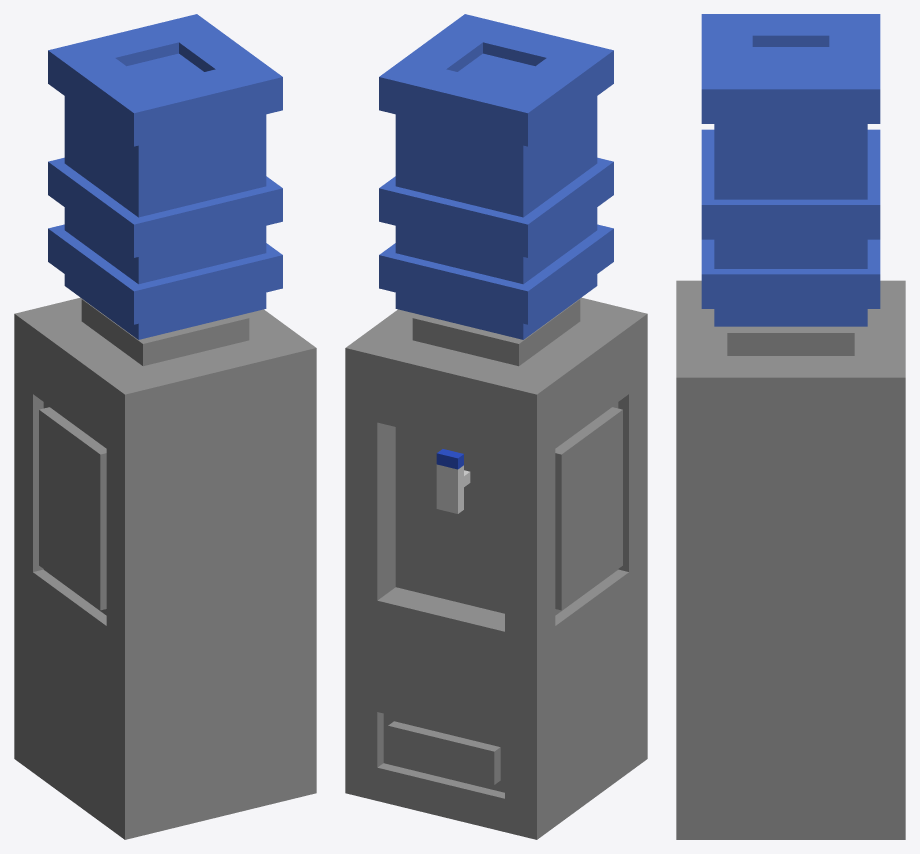
File: water_dispenser_01.glb
3 views of the same model, side by side, from view 1: azimuth 30°, elevation 25°; view 2: azimuth 150°, elevation 25°; view 3: azimuth 270°, elevation 25° (orthographic). The views are drawn at different scales.
Visible parts, largest first — view 1: Untitled; view 2: Untitled; view 3: Untitled.
Part boxes in pixels (<box>): Untitled: <box>14,14,316,839</box>; Untitled: <box>345,14,647,839</box>; Untitled: <box>676,14,905,839</box>.
Bounding box in the file's own units: 0.54 × 1.92 × 0.54.
Materials: 1 (1 with a texture image).
